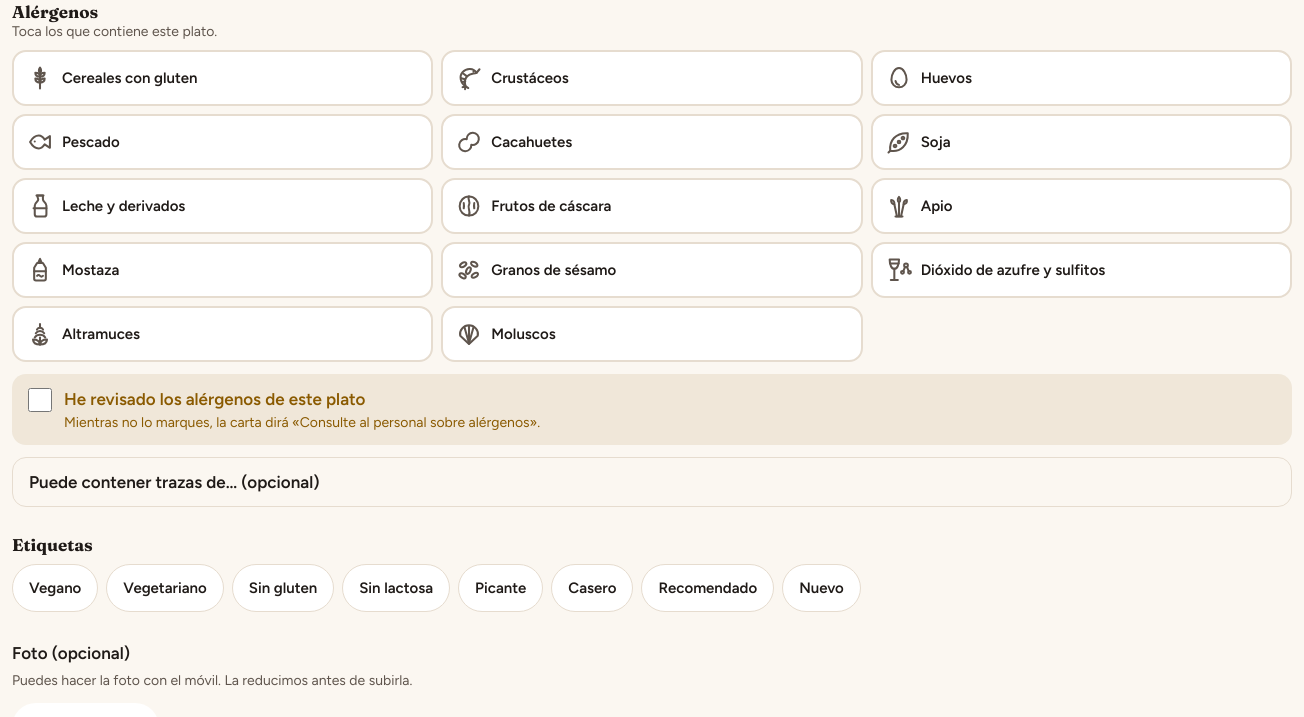
Test: EditorPlato › avisa de que los alérgenos están sin revisar hasta marcar la casilla
(page scrolled)
Expected: the text "la carta dirá «Consulte al personal sobre alérgenos»" is shown, 64,414 -> 540,431
Click the checkbox labelled "He revisado los alérgenos" at [40, 400], box 28,388 -> 52,412
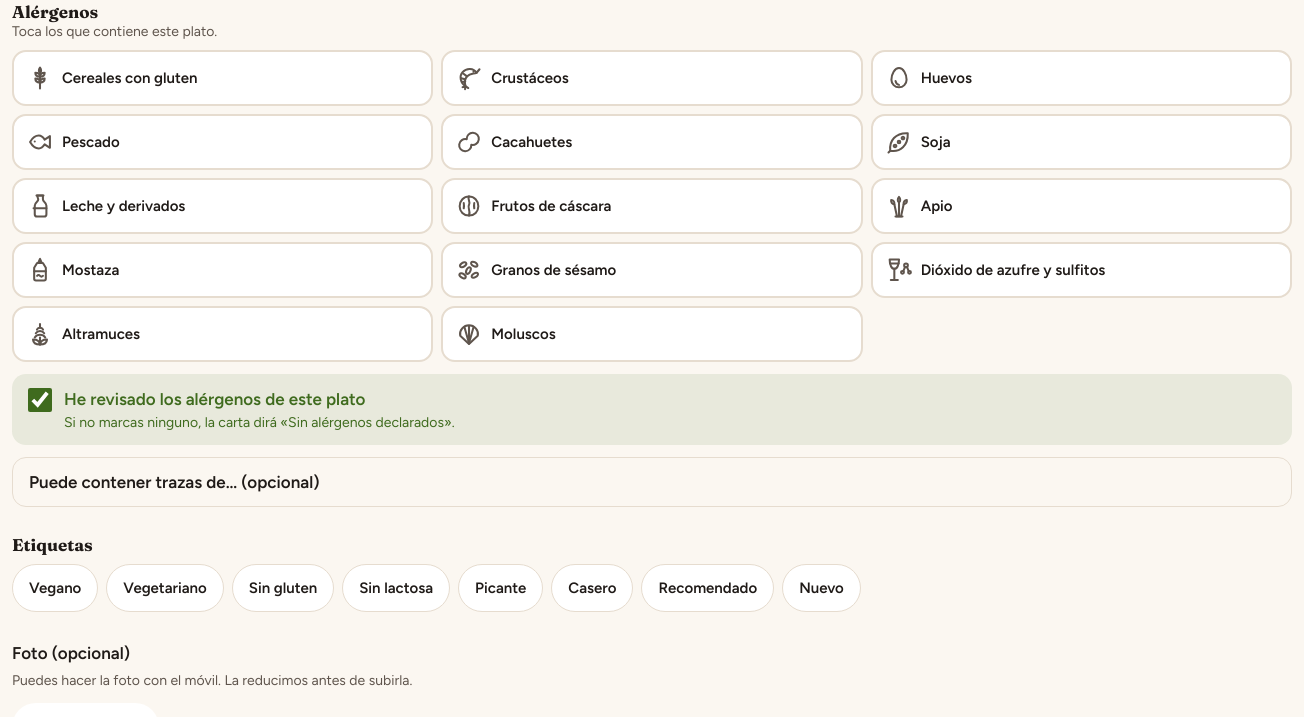
Now the text "la carta dirá «Sin alérgenos declarados»" is shown, box 64,414 -> 455,431
